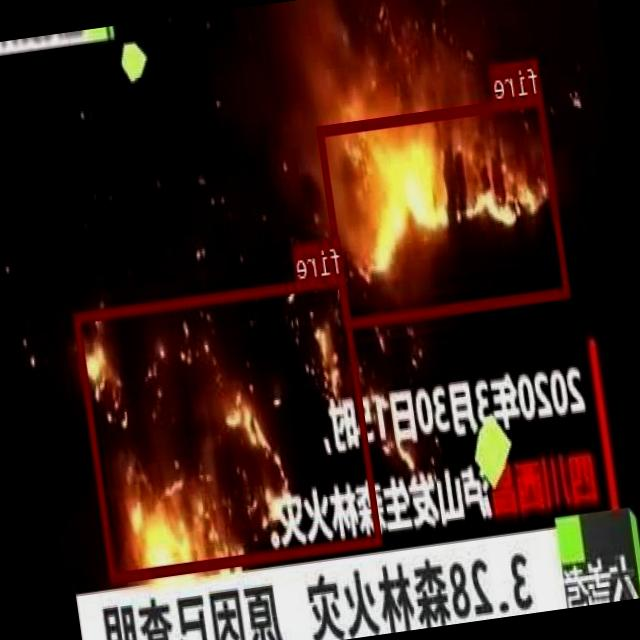fire: (74, 273, 383, 582), (318, 92, 572, 326)
